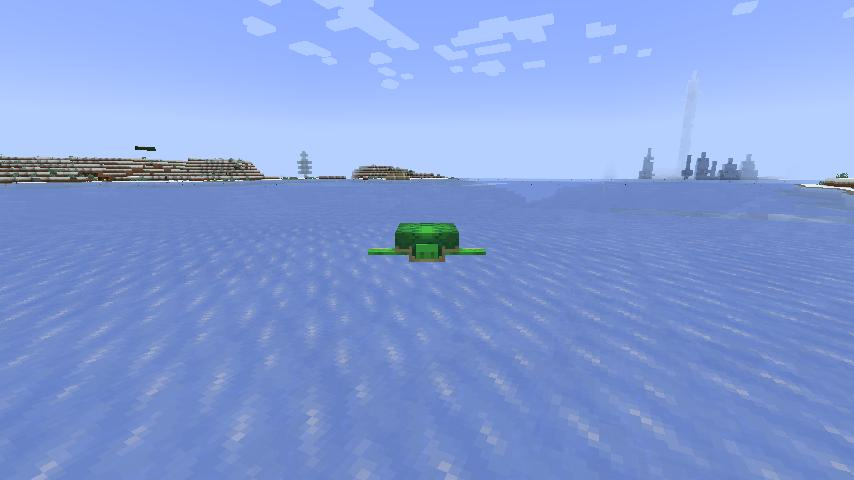turtle: (366, 219, 491, 264)
